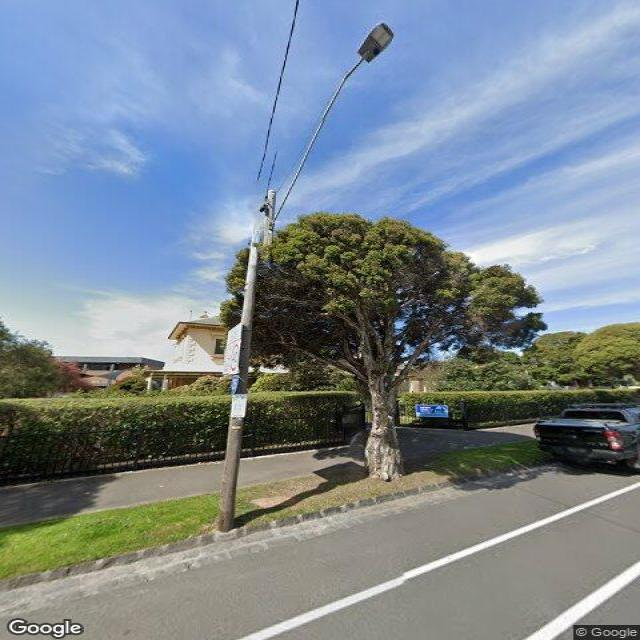streetlight: (270, 22, 397, 226)
timber-pole: (215, 188, 278, 532)
